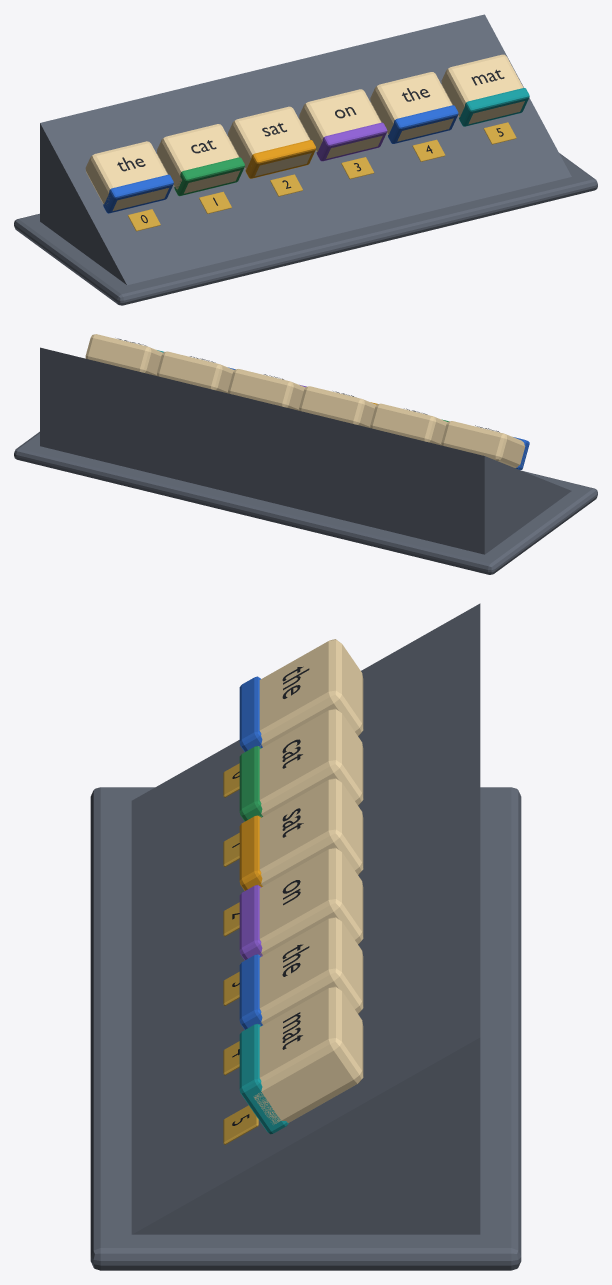
Rendered from tokens.glb.
3 views of the same model, one above another, from view 1: azimuth 30°, elevation 25°; view 2: azimuth 150°, elevation 25°; view 3: azimuth 270°, elevation 25° (orthographic). The views are drawn at different scales.
Visible parts, largest first — view 1: slope, stand, blk.001, blk, blk.002, blk.003, blk.004, blk.005, band.003, band, band.004, band.002 (+8 smaller); view 2: slope, stand, blk, blk.002, blk.005, blk.001, blk.003, blk.004; view 3: slope, stand, blk.005, blk.003, blk.002, blk.001, blk, blk.004, band.005, band.003, band.002, band.004 (+2 smaller).
Boxes of the visible parts, bbox=[...] form: slope: bbox=[40, 14, 571, 285]; stand: bbox=[14, 153, 597, 305]; blk.001: bbox=[157, 124, 240, 193]; blk: bbox=[85, 141, 168, 210]; blk.002: bbox=[228, 106, 311, 176]; blk.003: bbox=[299, 89, 382, 158]; blk.004: bbox=[370, 72, 453, 141]; blk.005: bbox=[441, 54, 524, 124]; band.003: bbox=[316, 122, 387, 161]; band: bbox=[103, 174, 173, 213]; band.004: bbox=[388, 105, 458, 143]; band.002: bbox=[245, 140, 315, 178]; slope: bbox=[40, 347, 571, 554]; stand: bbox=[14, 431, 597, 574]; blk: bbox=[441, 421, 525, 467]; blk.002: bbox=[299, 386, 376, 427]; blk.005: bbox=[85, 334, 162, 375]; blk.001: bbox=[370, 403, 447, 445]; blk.003: bbox=[228, 369, 305, 410]; blk.004: bbox=[157, 351, 233, 393]; slope: bbox=[131, 603, 480, 1234]; stand: bbox=[90, 787, 521, 1270]; blk.005: bbox=[253, 986, 363, 1124]; blk.003: bbox=[259, 847, 363, 956]; blk.002: bbox=[259, 778, 363, 885]; blk.001: bbox=[259, 708, 363, 817]; blk: bbox=[258, 639, 363, 747]; blk.004: bbox=[259, 917, 363, 1024]; band.005: bbox=[239, 1023, 288, 1134]; band.003: bbox=[239, 885, 262, 960]; band.002: bbox=[239, 815, 262, 890]; band.004: bbox=[239, 954, 262, 1029].
Bounding box in the file's own units: 1.35 × 0.295 × 0.524.
